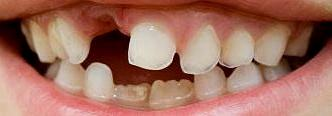Hypodontia: (74, 25, 134, 61)
